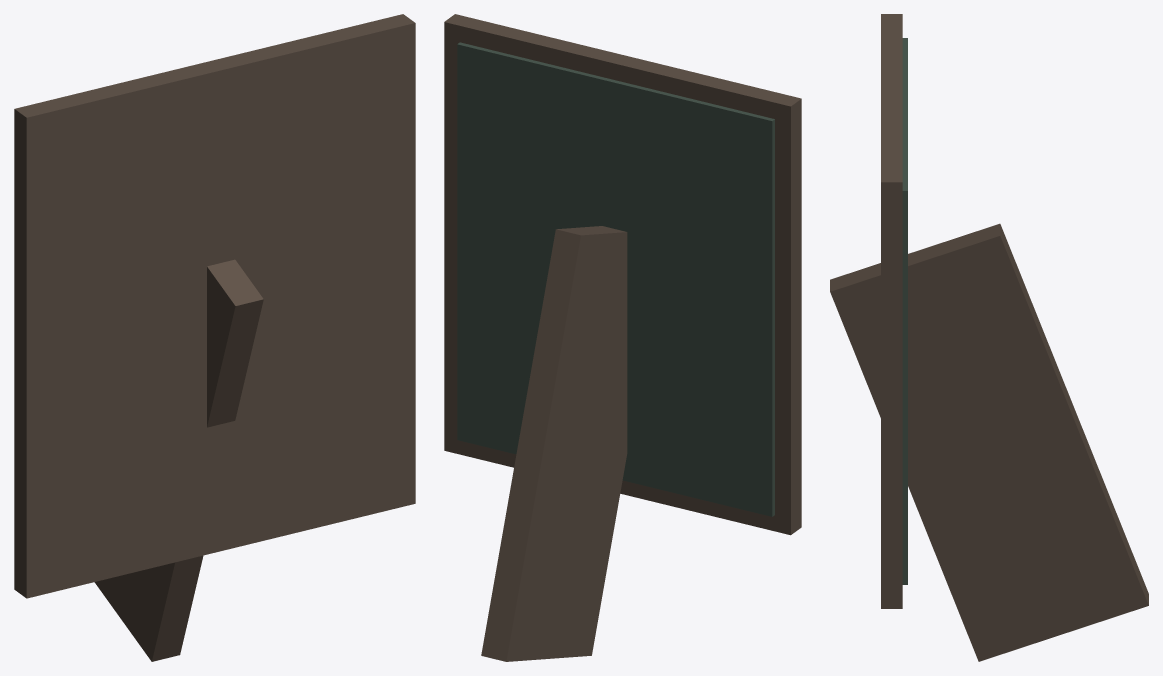
Rendered from prop_blackboard_menu.glb.
3 renders of one model, left to right at view 1: azimuth 30°, elevation 25°; view 2: azimuth 150°, elevation 25°; view 3: azimuth 270°, elevation 25°, orthographic. The views are drawn at different scales.
Visible parts, largest first — view 1: blackboard_menu; view 2: blackboard_menu; view 3: blackboard_menu.
Boxes of the visible parts, x1,y1,x2,y2 form: blackboard_menu: (14,14,415,661); blackboard_menu: (444,14,801,661); blackboard_menu: (830,14,1148,661).
Bounding box in the file's own units: 1.1 × 1.7 × 0.8803.
